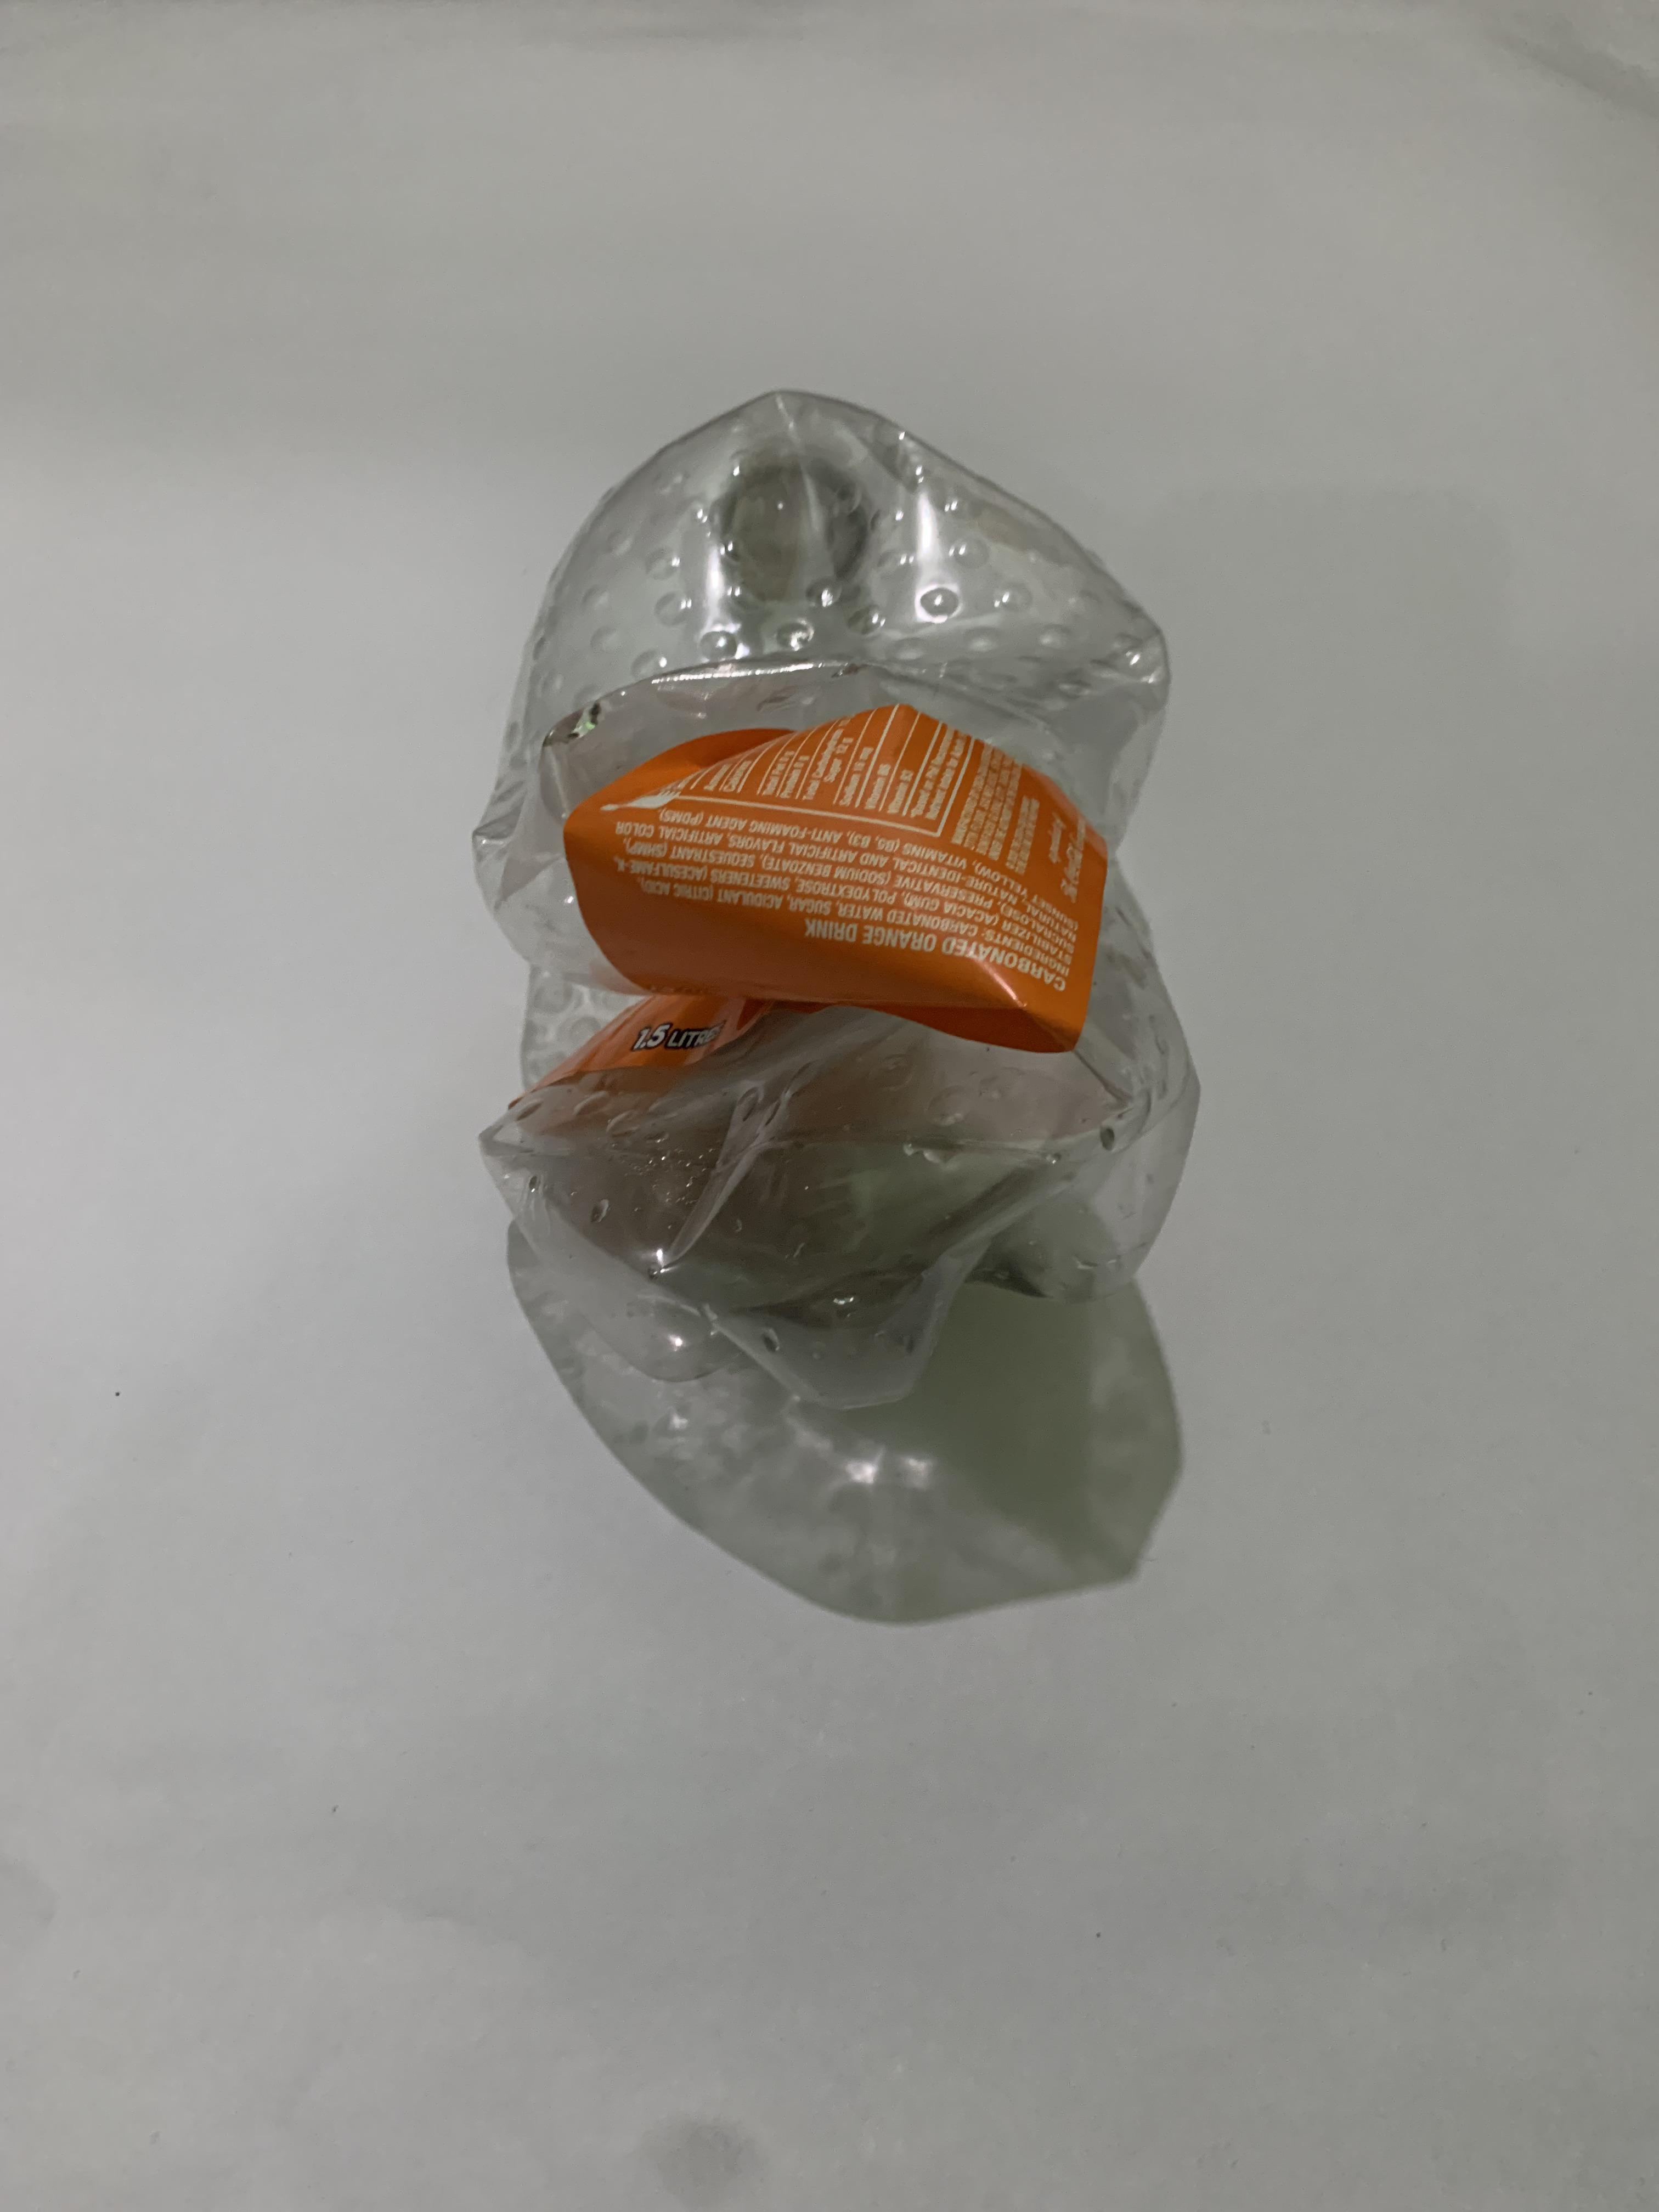bottle: (0, 355, 347, 1414)
